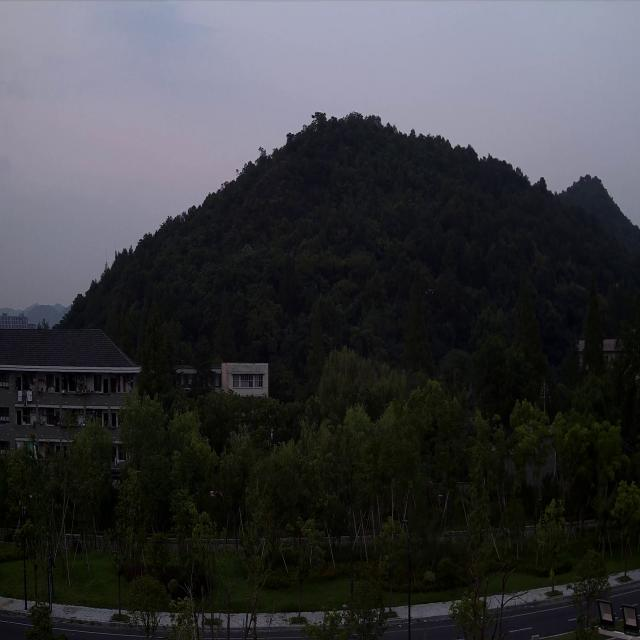UAV: (426, 288, 434, 295)
